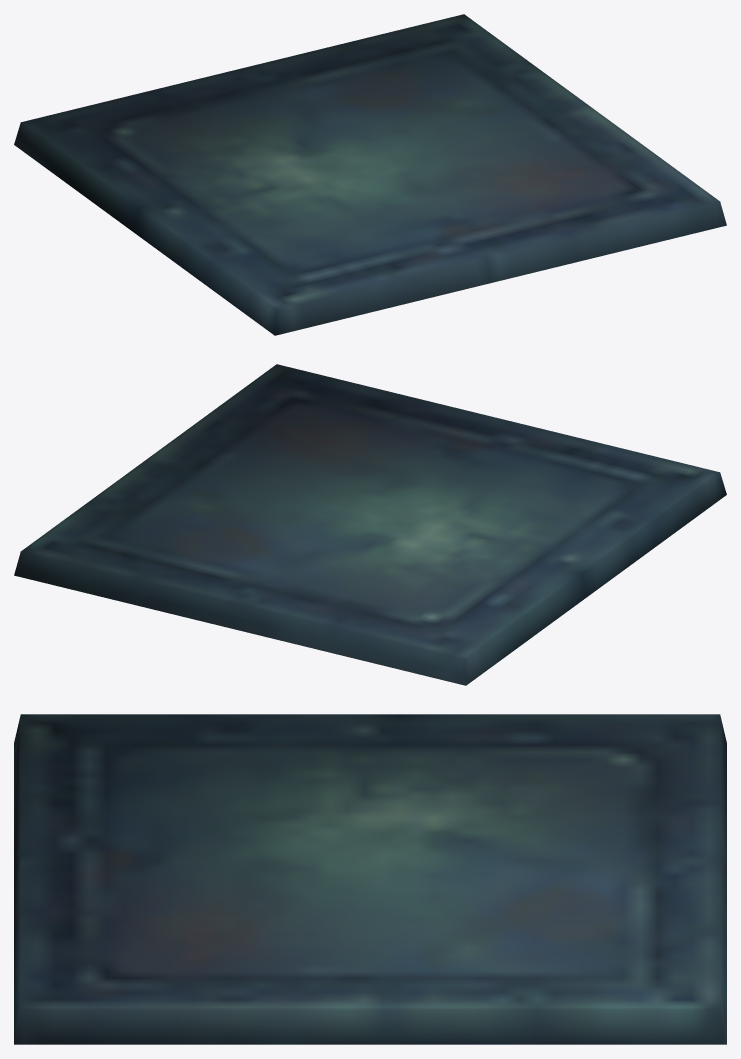
File: mesh_Pt_sewb_props_01.FBX
The picture shows the model from 3 angles, top to bottom: view 1: azimuth 30°, elevation 25°; view 2: azimuth 150°, elevation 25°; view 3: azimuth 270°, elevation 25°; orthographic projection. The views are drawn at different scales.
Visible parts, largest first — view 1: mesh_Pt_sewb_props_02; view 2: mesh_Pt_sewb_props_02; view 3: mesh_Pt_sewb_props_02.
Boxes of the visible parts, box(x1,y1,x2,y2) form: mesh_Pt_sewb_props_02: box(14, 14, 726, 335); mesh_Pt_sewb_props_02: box(14, 364, 726, 685); mesh_Pt_sewb_props_02: box(14, 714, 726, 1044).
Size of the model in its own units: 0.0612 by 0.00301 by 0.0612.
Materials: 1 (1 with a texture image).
